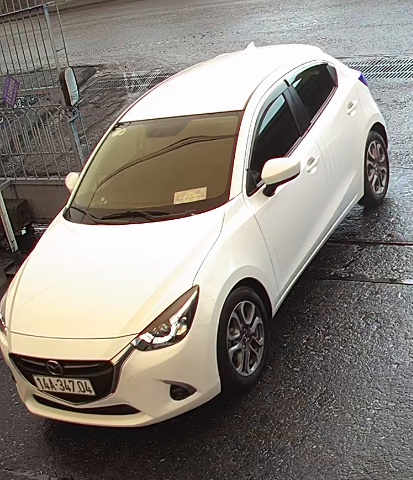vehicle plate: (24, 370, 101, 400)
